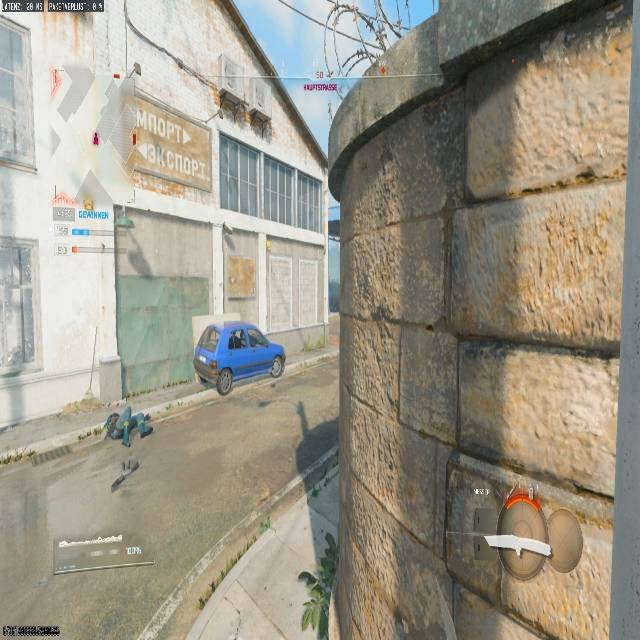player: (209, 82, 273, 141)
